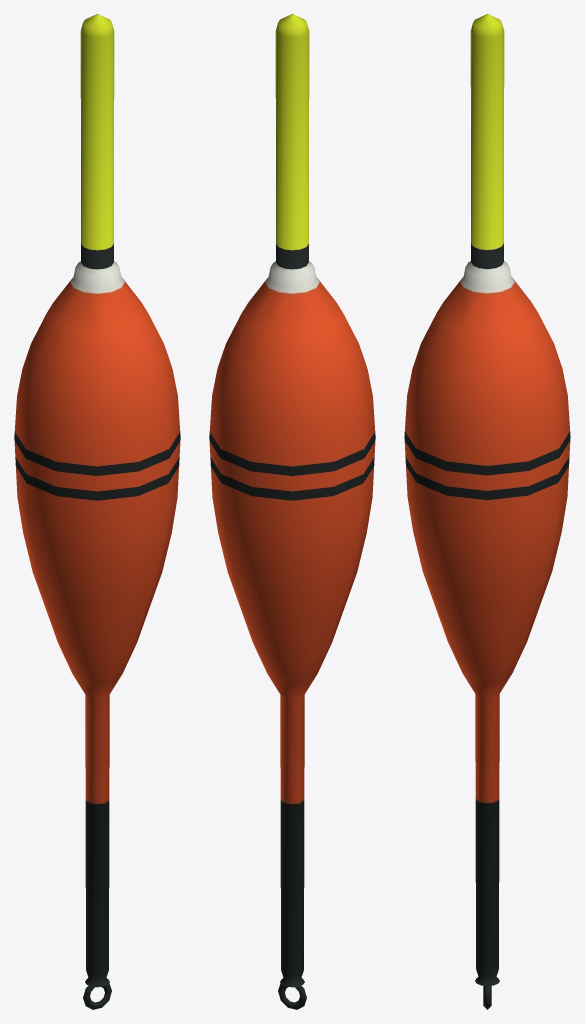
3 views of the same model, side by side, from view 1: azimuth 30°, elevation 25°; view 2: azimuth 150°, elevation 25°; view 3: azimuth 270°, elevation 25° (orthographic).
Parts seen in each view (by area): view 1: F50_Float; view 2: F50_Float; view 3: F50_Float.
Part boxes in pixels (x1,y1,x2,y2): F50_Float: [14, 14, 180, 1009]; F50_Float: [209, 14, 375, 1009]; F50_Float: [404, 14, 570, 1009].
Size of the model in its own units: 0.0152 by 0.1 by 0.0152.
Materials: 1 (1 with a texture image).
